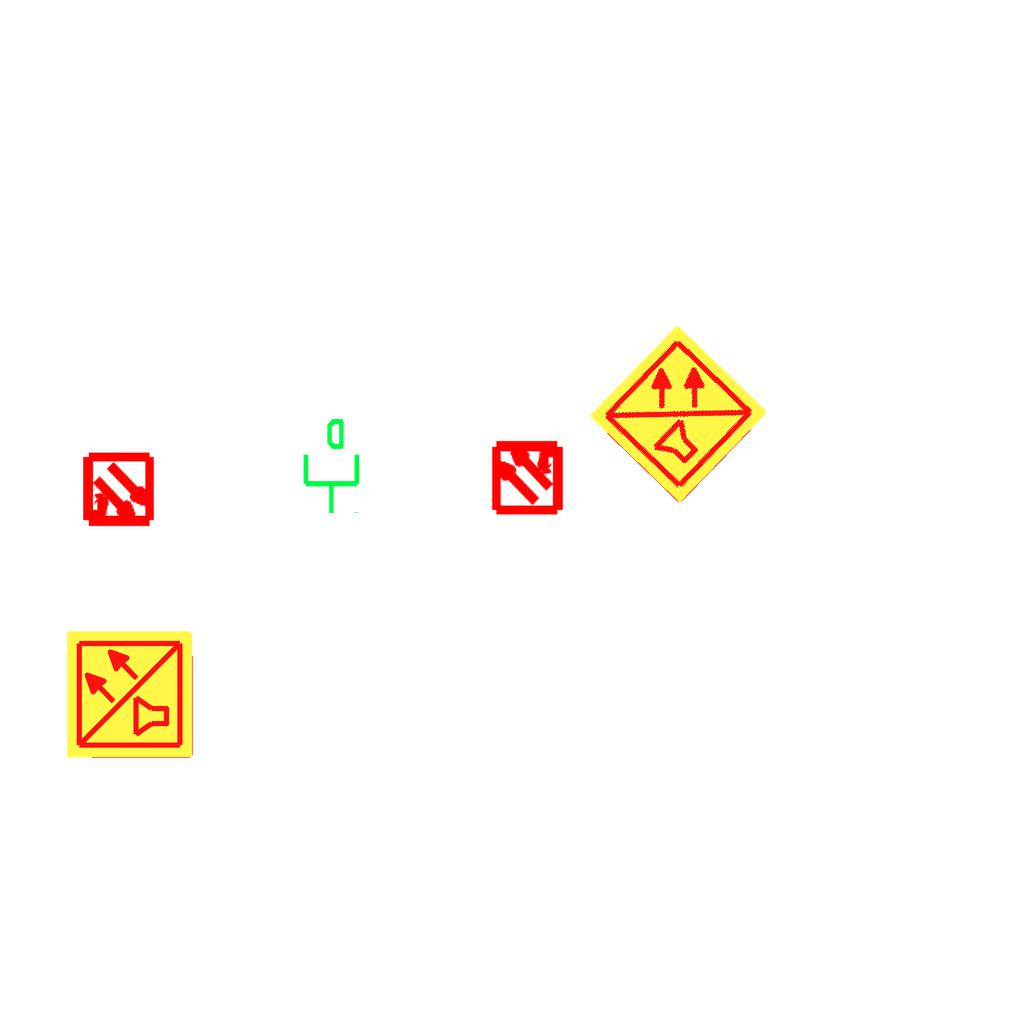Datenanschluss_einfach: (295, 416, 364, 516)
OKW_Multisensormelder_(Kombination_optischer_Rauch-Kahlenmonoxid_Waerme-Melder): (585, 320, 773, 508), (64, 628, 196, 760)
OT_Multisensormelder_(Kombination_RMO_WMD): (62, 435, 175, 548), (471, 419, 584, 532)
